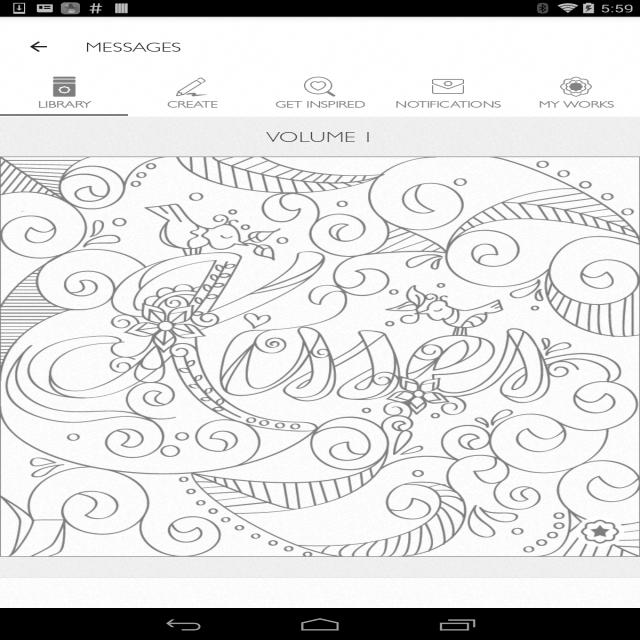ImageButton: (9, 25, 68, 68)
ImageView: (0, 156, 640, 556), (0, 227, 640, 396), (0, 407, 640, 576), (0, 116, 640, 216), (0, 577, 640, 640), (0, 587, 640, 640), (248, 248, 392, 338), (248, 428, 392, 518), (0, 76, 128, 96), (128, 76, 256, 96), (256, 76, 384, 96), (384, 76, 512, 96), (512, 76, 640, 96), (576, 516, 624, 546)
TextView: (0, 156, 640, 186), (0, 127, 640, 156), (32, 345, 608, 375), (32, 525, 608, 555), (0, 125, 640, 148), (549, 403, 640, 463), (549, 582, 639, 640), (256, 191, 384, 212), (85, 36, 182, 56), (0, 97, 128, 111), (128, 97, 256, 111), (256, 97, 384, 111), (384, 97, 512, 111), (512, 97, 640, 111)
